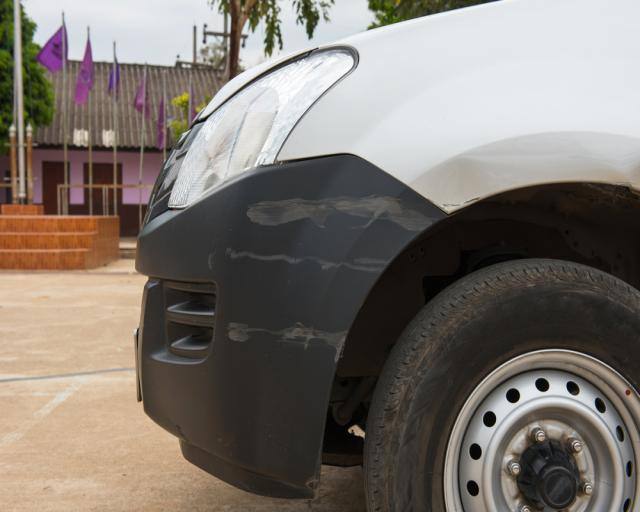dent: (427, 158, 489, 209)
scratch: (240, 191, 444, 234), (224, 310, 351, 365), (210, 239, 397, 274)
